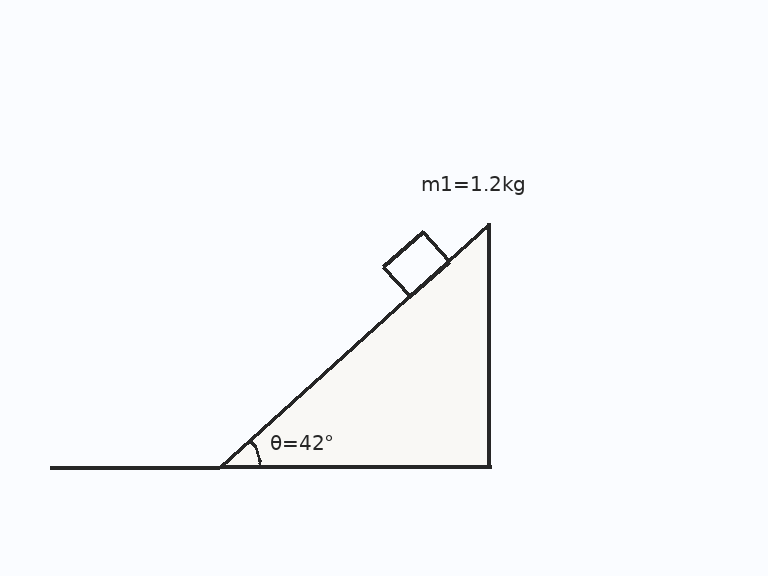block: (381, 230, 451, 298)
ramp: (218, 223, 491, 469)
